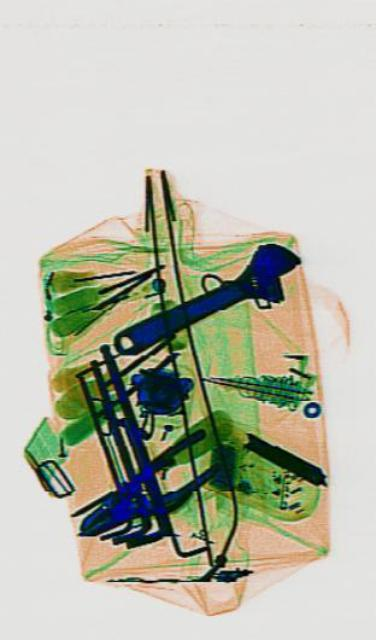Pliers: (77, 422, 216, 558)
Wrench: (106, 226, 305, 378)
